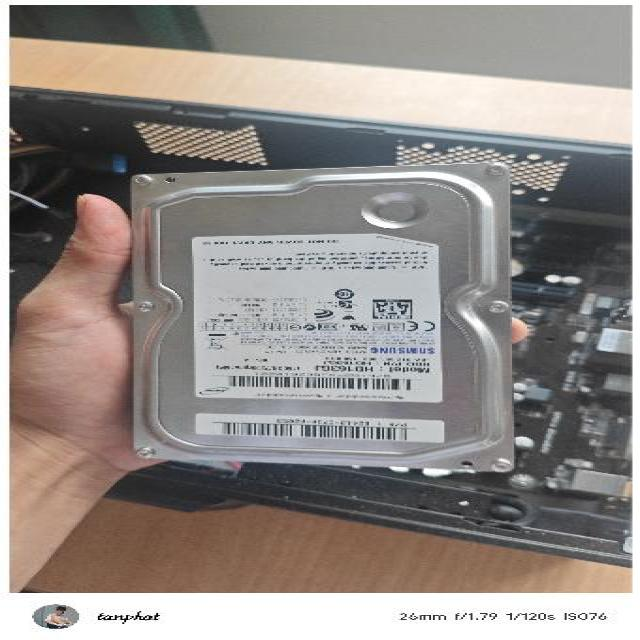DISK: (109, 160, 527, 479)
